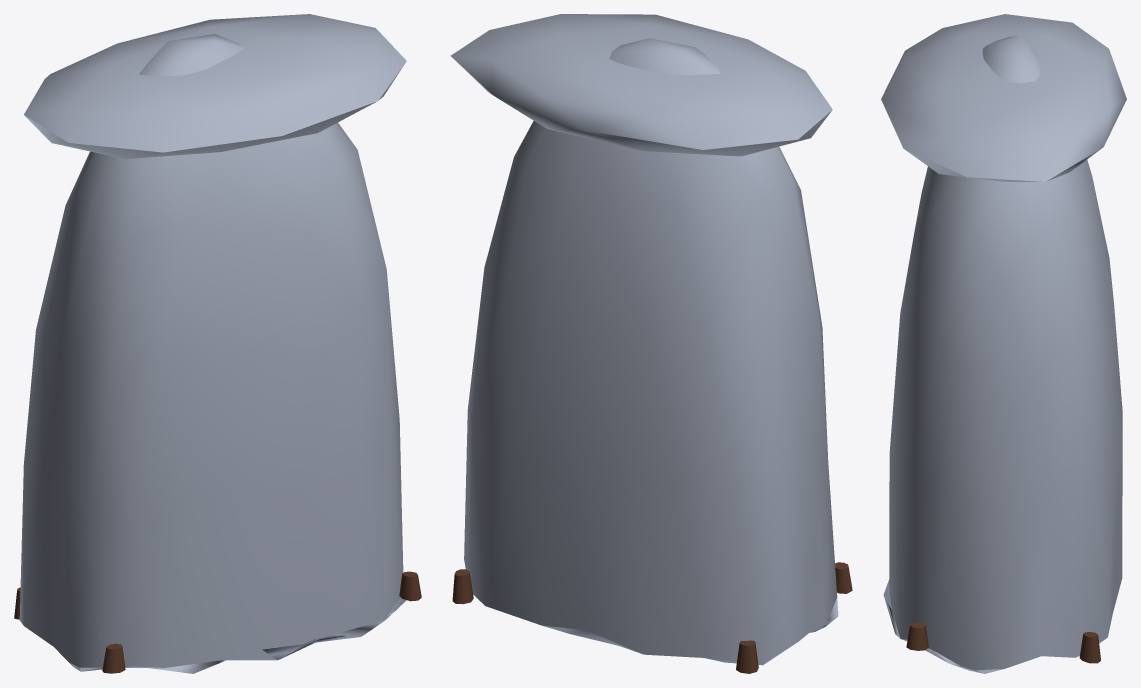
File: ghost_covered_wardrobe.glb
3 views of the same model, side by side, from view 1: azimuth 30°, elevation 25°; view 2: azimuth 150°, elevation 25°; view 3: azimuth 270°, elevation 25° (orthographic). The views are drawn at different scales.
Visible parts, largest first — view 1: ghost_covered_wardrobe; view 2: ghost_covered_wardrobe; view 3: ghost_covered_wardrobe.
Boxes of the visible parts, x1=… form: ghost_covered_wardrobe: x1=14, y1=14, x2=421, y2=673; ghost_covered_wardrobe: x1=450, y1=14, x2=852, y2=673; ghost_covered_wardrobe: x1=881, y1=14, x2=1126, y2=673.
Size of the model in its own units: 1.32 by 2.06 by 0.851.
